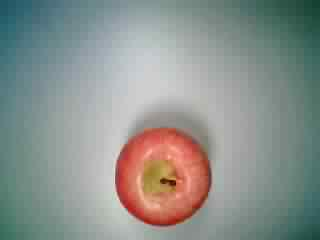apple: (108, 123, 215, 227)
